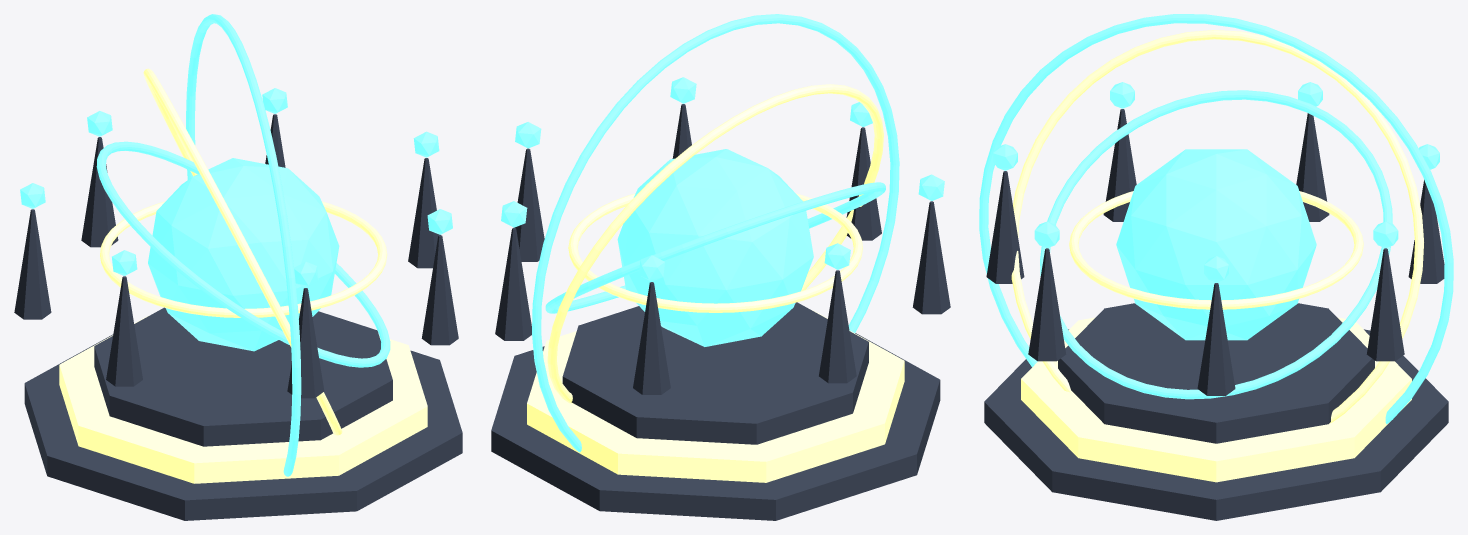
Rendered from gpu-blender-totem.glb.
3 views of the same model, side by side, from view 1: azimuth 30°, elevation 25°; view 2: azimuth 150°, elevation 25°; view 3: azimuth 270°, elevation 25° (orthographic). The views are drawn at different scales.
Parts seen in each view (by area): view 1: Cylinder.002, SovereignCore_reality-shader-forge, Cylinder, Cylinder.001, Torus.003, Torus.001, Torus, Torus.002, Cone.003, Cone.006, Cone.004, Cone (+8 smaller); view 2: Cylinder.002, SovereignCore_reality-shader-forge, Cylinder, Cylinder.001, Torus.003, Torus.002, Torus.001, Torus, Cone.003, Cone.004, Cone.002, Cone.001 (+9 smaller); view 3: SovereignCore_reality-shader-forge, Cylinder.002, Cylinder, Cylinder.001, Torus.003, Torus.002, Torus.001, Torus, Cone.001, Cone.006, Cone, Cone.005 (+5 smaller).
Part boxes in pixels (x1,y1,x2,y2): Cylinder.002: (94,307,392,446); SovereignCore_reality-shader-forge: (148,158,339,351); Cylinder: (24,334,462,520); Cylinder.001: (59,315,427,483); Torus.003: (186,14,301,476); Torus.001: (96,141,390,367); Torus: (100,201,387,317); Torus.002: (143,68,342,435); Cone.003: (14,209,51,319); Cone.006: (421,235,458,345); Cone.004: (106,276,142,386); Cone: (408,158,440,268); Cylinder.002: (562,302,868,444); SovereignCore_reality-shader-forge: (617,149,813,346); Cylinder: (491,333,940,520); Cylinder.001: (527,310,904,482); Torus.003: (532,14,899,452); Torus.002: (547,84,883,403); Torus.001: (545,182,885,313); Torus: (568,193,862,312); Cone.003: (819,270,856,383); Cone.004: (912,201,950,314); Cone.002: (633,282,670,394); Cone.001: (495,228,531,340); SovereignCore_reality-shader-forge: (1116,149,1316,340); Cylinder.002: (1058,303,1374,443); Cylinder: (984,329,1448,520); Cylinder.001: (1021,317,1411,482); Torus.003: (979,14,1453,424); Torus.002: (1011,30,1423,422); Torus.001: (1040,90,1392,399); Torus: (1069,191,1363,309); Cone.001: (1366,248,1404,361); Cone.006: (1028,248,1066,361); Cone: (1197,283,1235,395); Cone.005: (986,171,1024,283).
Size of the model in its own units: 4.41 by 4.7 by 4.49.
